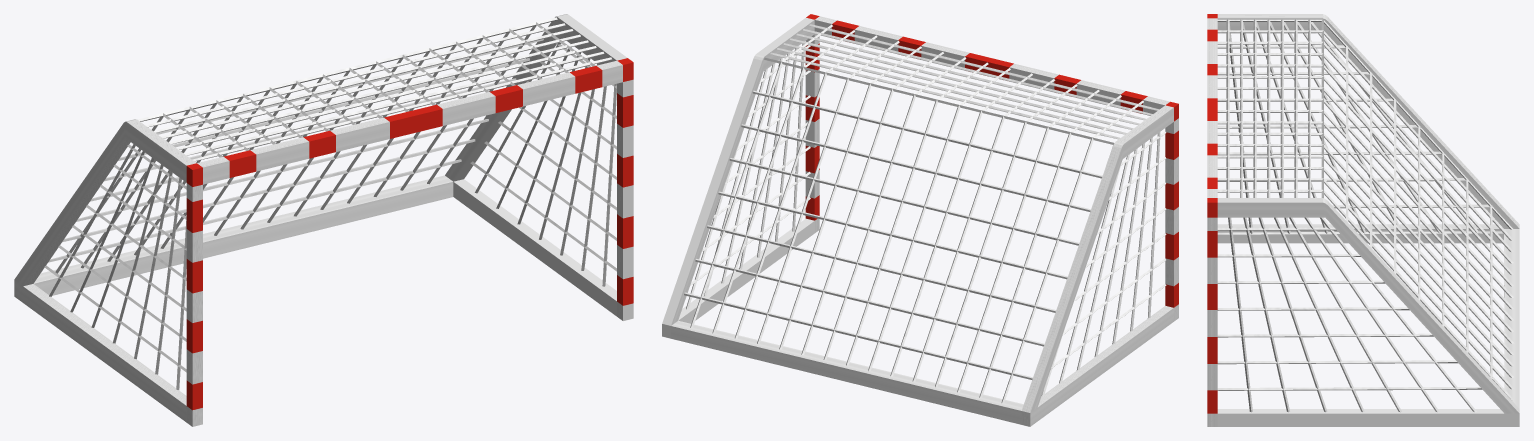
The model's file is Arco.fbx.
3 renders of one model, left to right at view 1: azimuth 30°, elevation 25°; view 2: azimuth 150°, elevation 25°; view 3: azimuth 270°, elevation 25°, orthographic. The views are drawn at different scales.
Visible parts, largest first — view 1: Cube; view 2: Cube; view 3: Cube.
Boxes of the visible parts, bbox=[...] form: Cube: bbox=[14, 14, 633, 426]; Cube: bbox=[662, 14, 1178, 426]; Cube: bbox=[1207, 14, 1519, 426].
Bounding box in the file's own units: 607 × 338 × 425.
